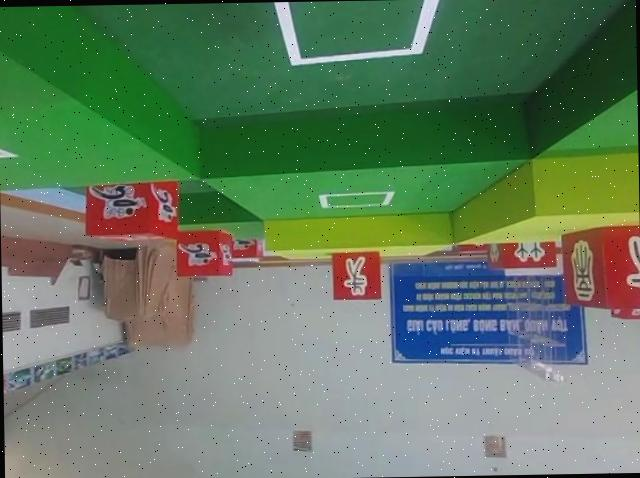R1: (83, 181, 179, 241), (172, 226, 236, 278)
R2 Fake: (560, 224, 640, 306), (330, 250, 382, 301)
